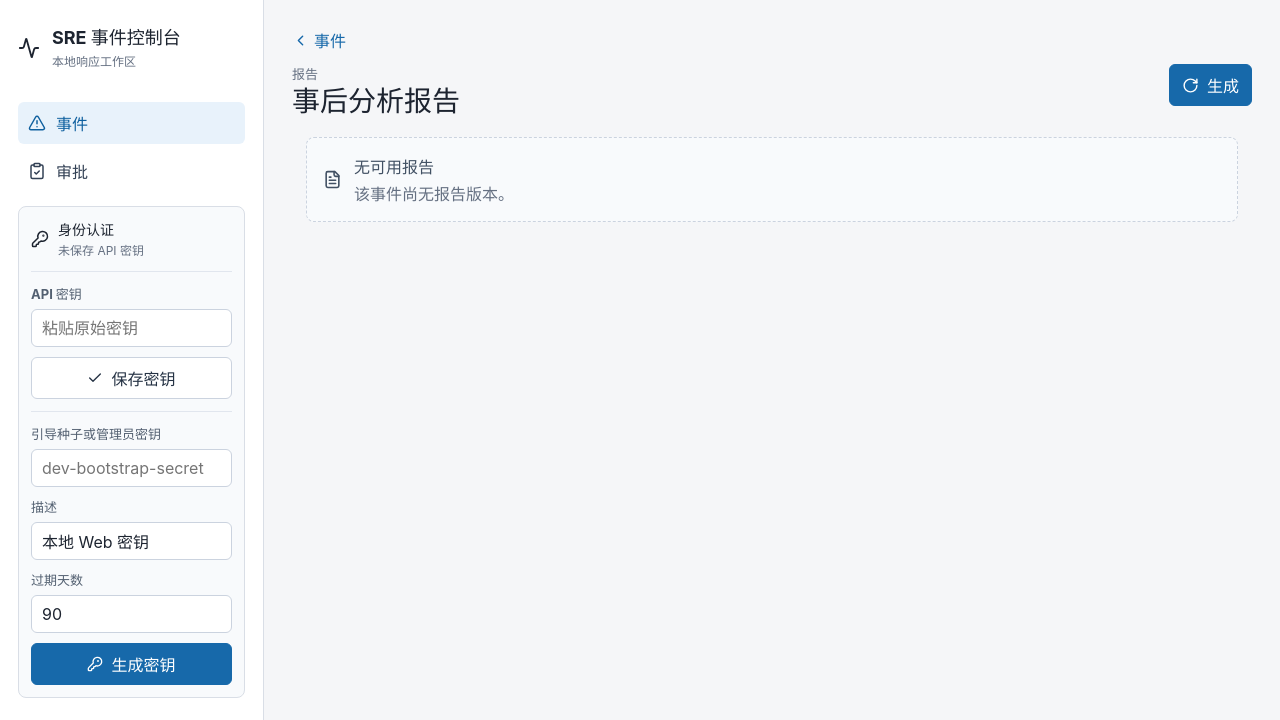
renders missing report empty state and generates a report
Expected: the text "无可用报告" is shown, x1=354 y1=157 x2=434 y2=177
Click the button "生成": (1210, 85) x1=1169 y1=64 x2=1252 y2=106
(page scrolled)
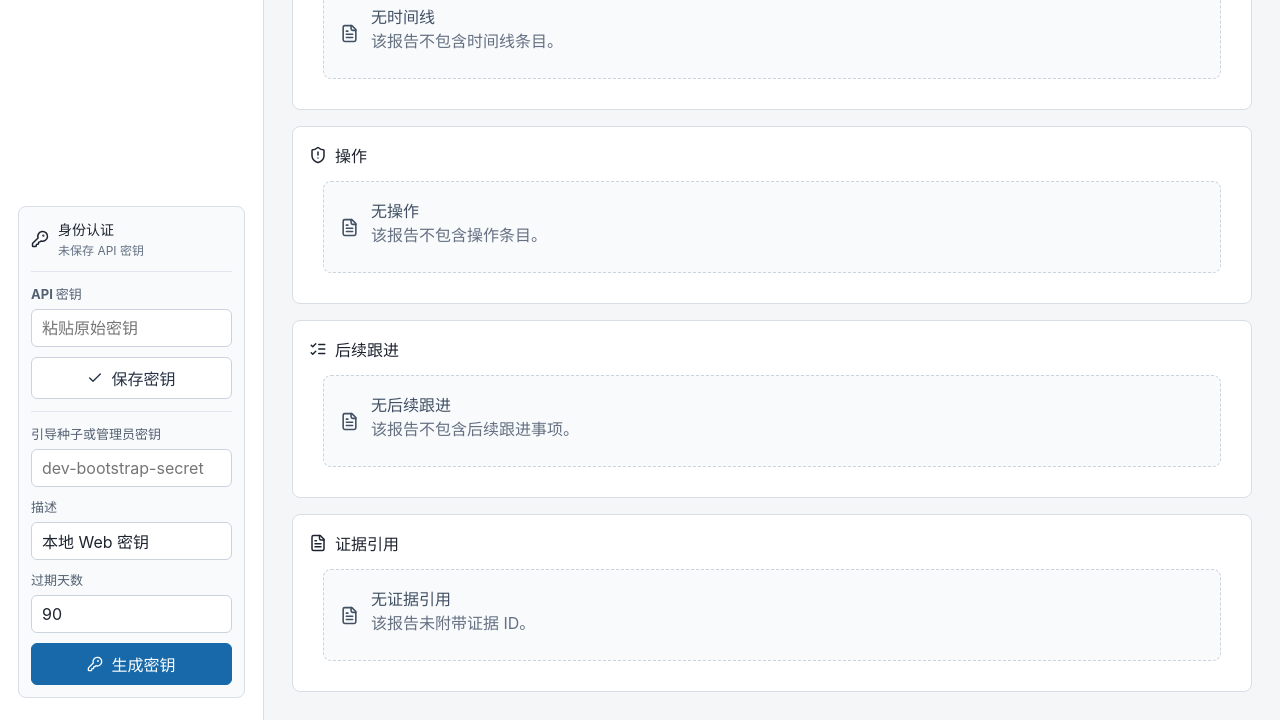
Expected: the text "无时间线" is shown, x1=371 y1=7 x2=435 y2=27
Expected: the text "无证据引用" is shown, x1=371 y1=589 x2=451 y2=609
